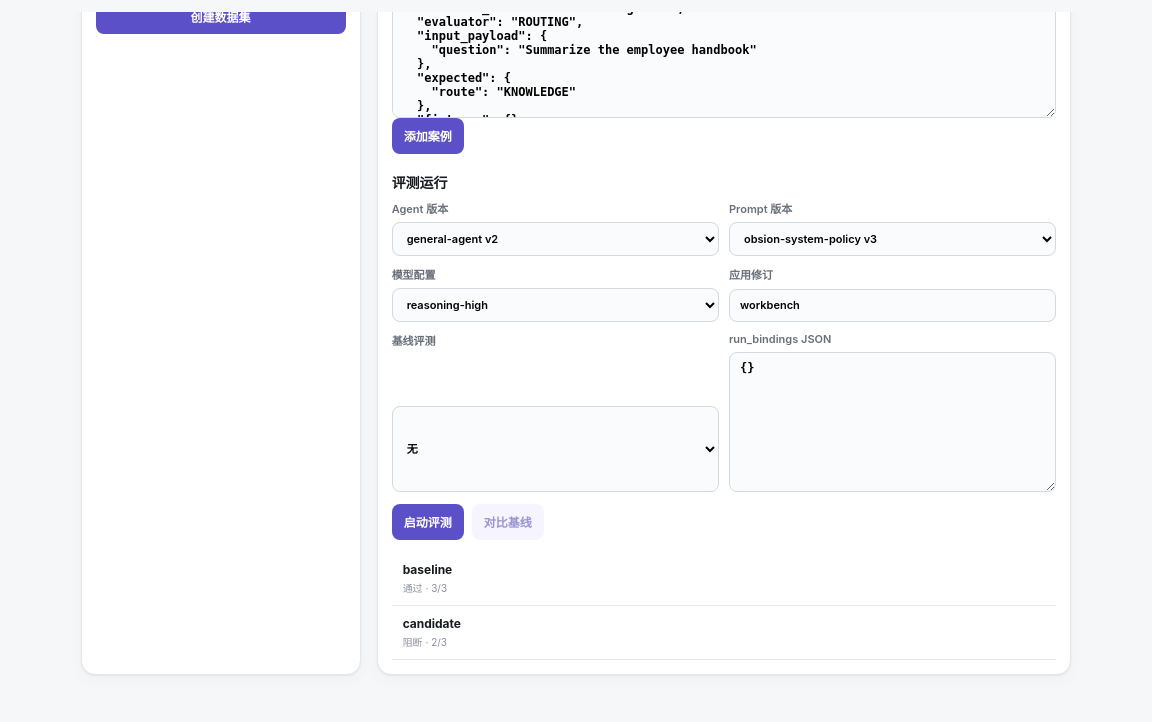
EvalView interactions › creates and scopes a new dataset without retaining an old baseline
Select "baseline" in the dropdown labelled "基线评测" at {"x": 555, "y": 449}, box [392,406,719,492]
(page scrolled)
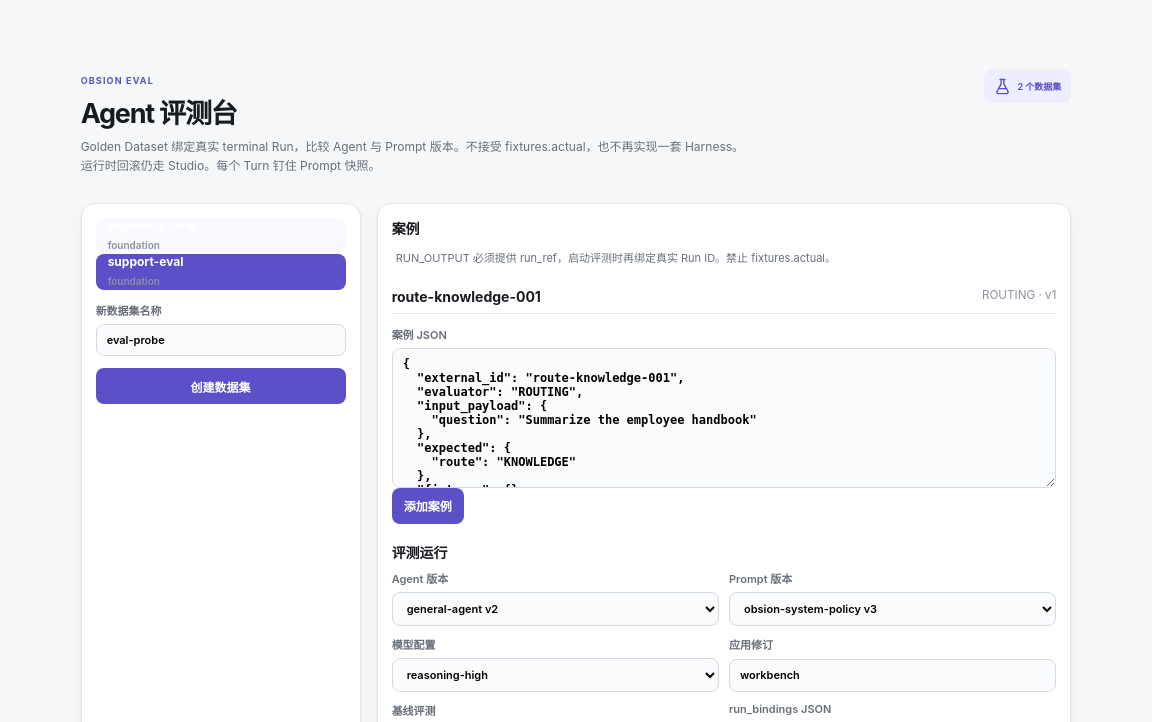
Replace the text in the field labelled "新数据集名称" with " release-eval " at {"x": 221, "y": 340}, box [96,324,346,356]
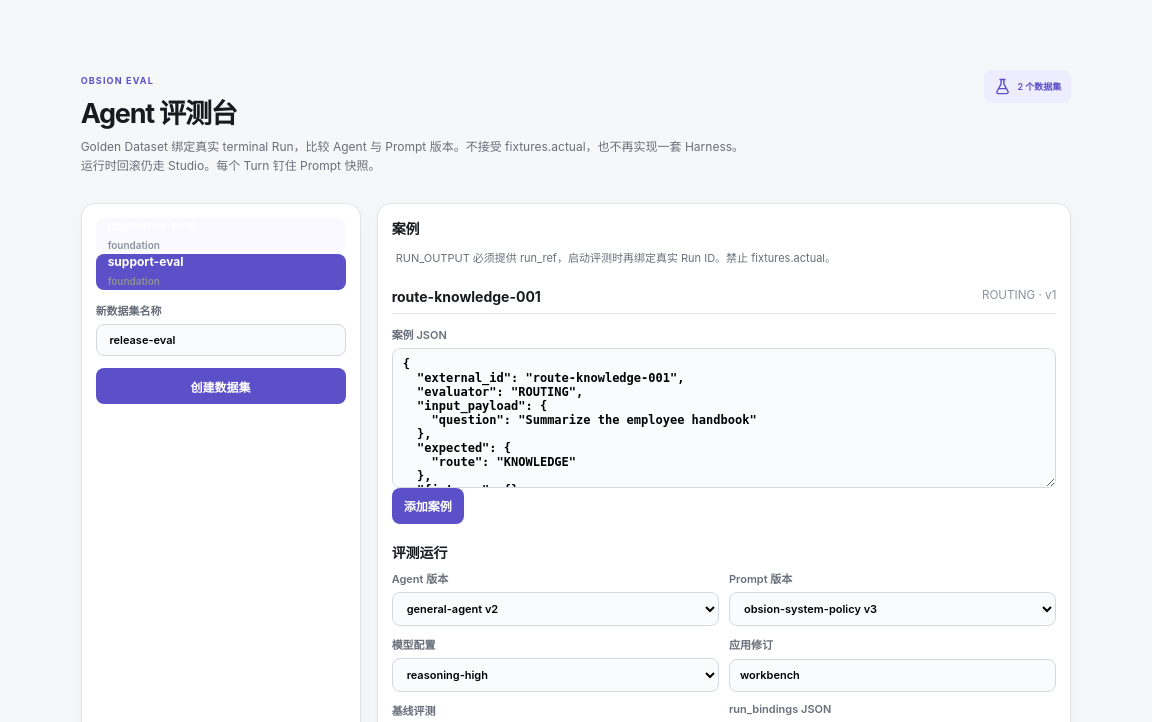
Click the button "创建数据集".
click(221, 386)  # box [96,368,346,404]
(page scrolled)
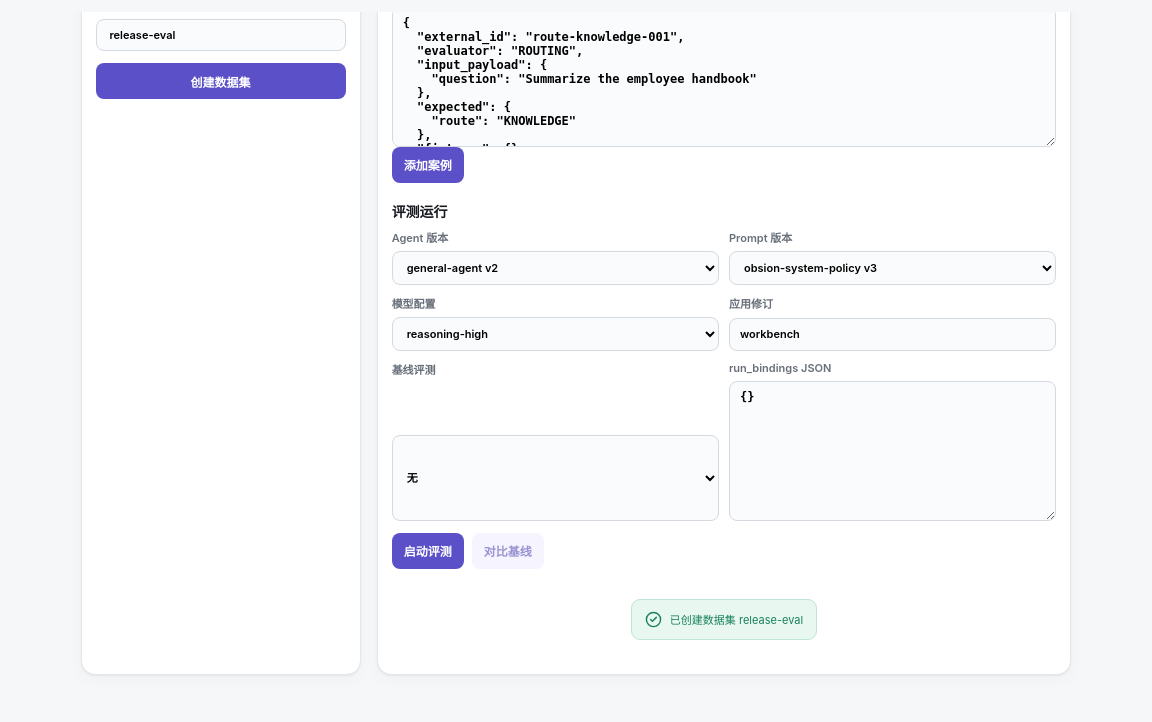
Expected: the text "已创建数据集 release-eval" is shown, [670,611,803,627]
